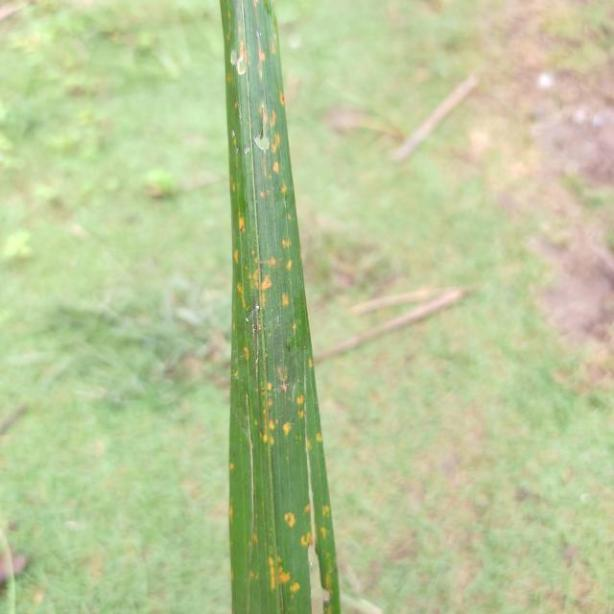Kalium: (220, 3, 342, 614)
